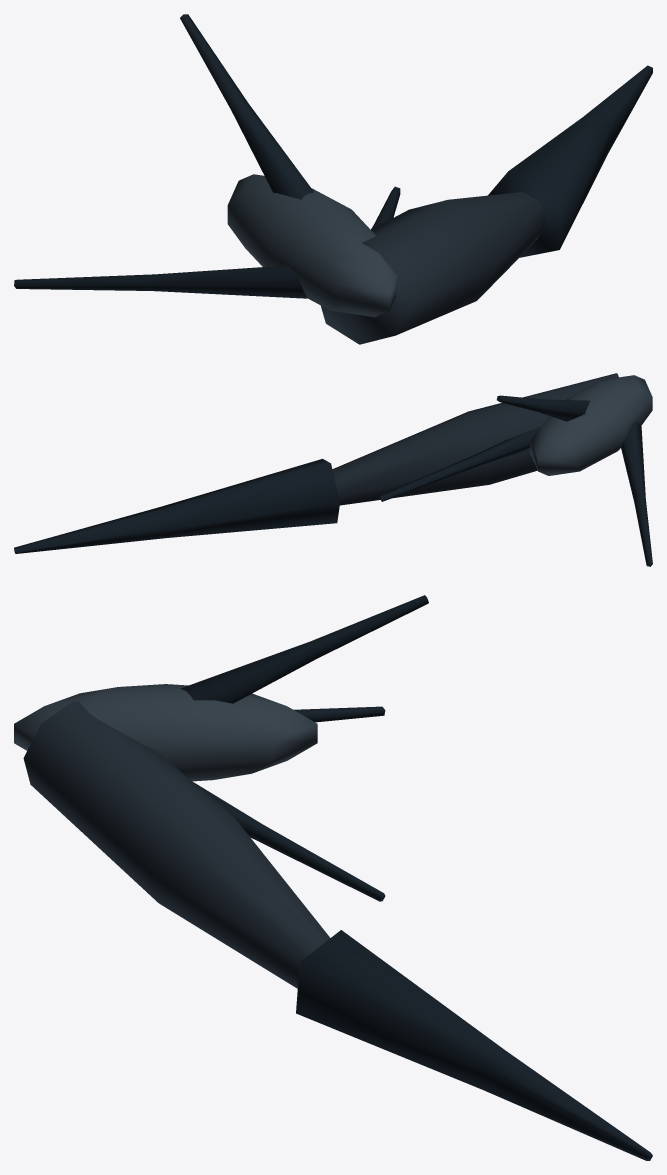
The model's file is Tail_10.obj.
3 renders of one model, top to bottom at view 1: azimuth 30°, elevation 25°; view 2: azimuth 150°, elevation 25°; view 3: azimuth 270°, elevation 25°, orthographic. The views are drawn at different scales.
Visible parts, largest first — view 1: Tail_10; view 2: Tail_10; view 3: Tail_10.
Part boxes in pixels (left/top/right/bottom): Tail_10: left=14, top=14, right=652, bottom=344; Tail_10: left=14, top=373, right=652, bottom=566; Tail_10: left=14, top=595, right=652, bottom=1160.
Bounding box in the file's own units: 1.61 × 0.5633 × 1.15.
